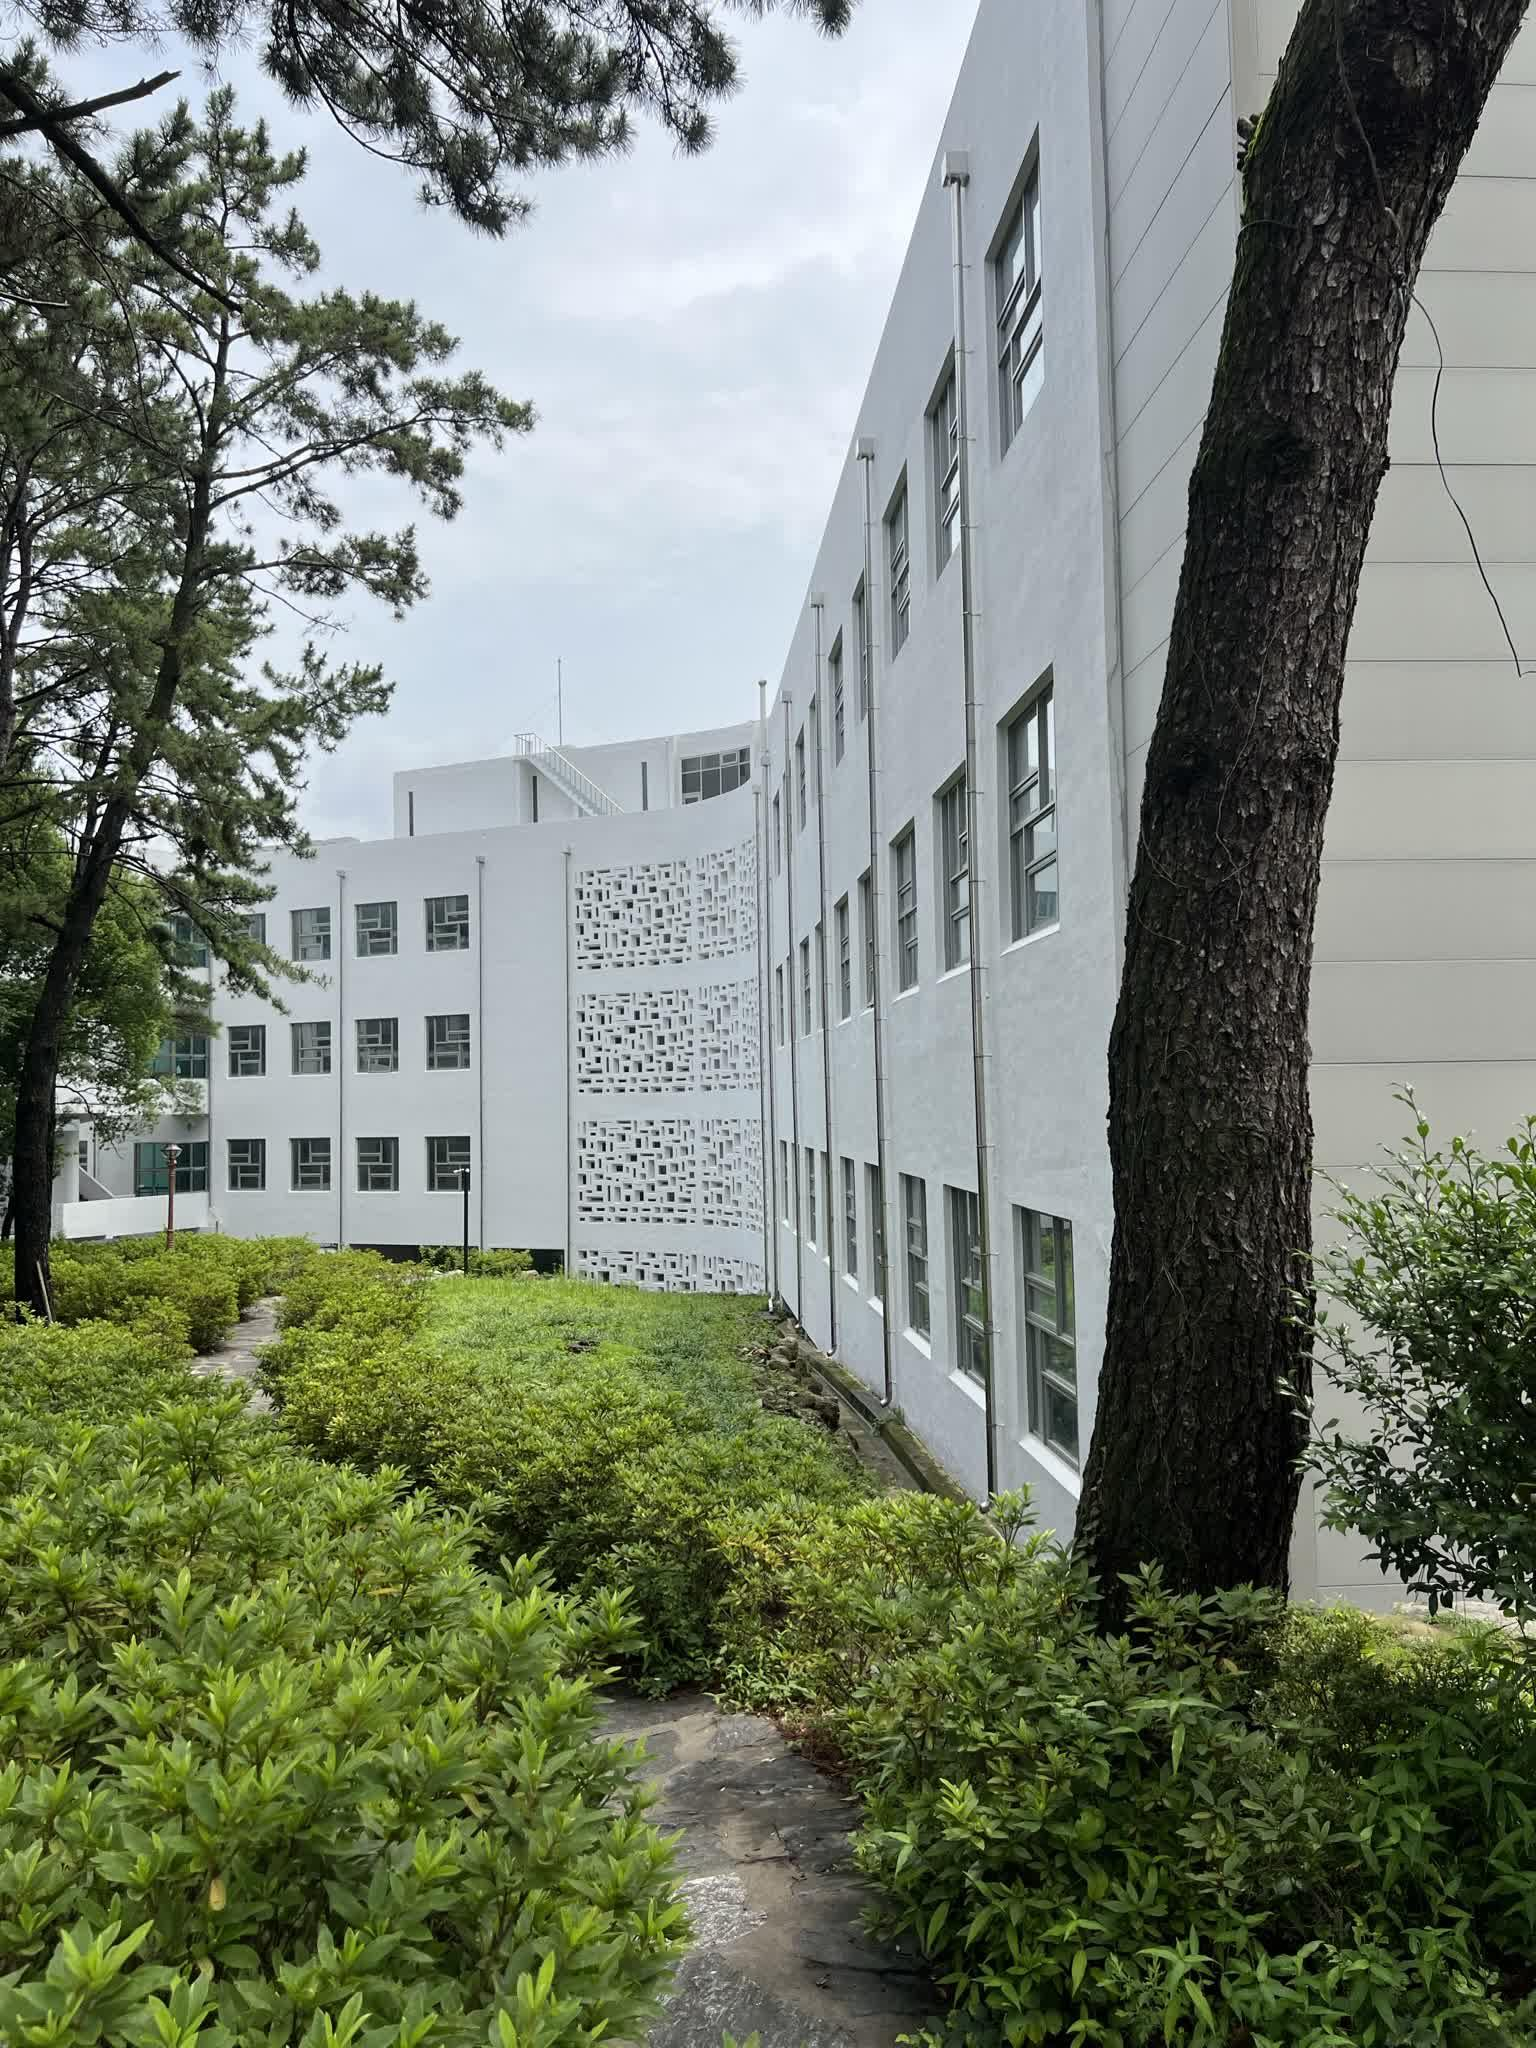building: (310, 697, 1070, 1306)
